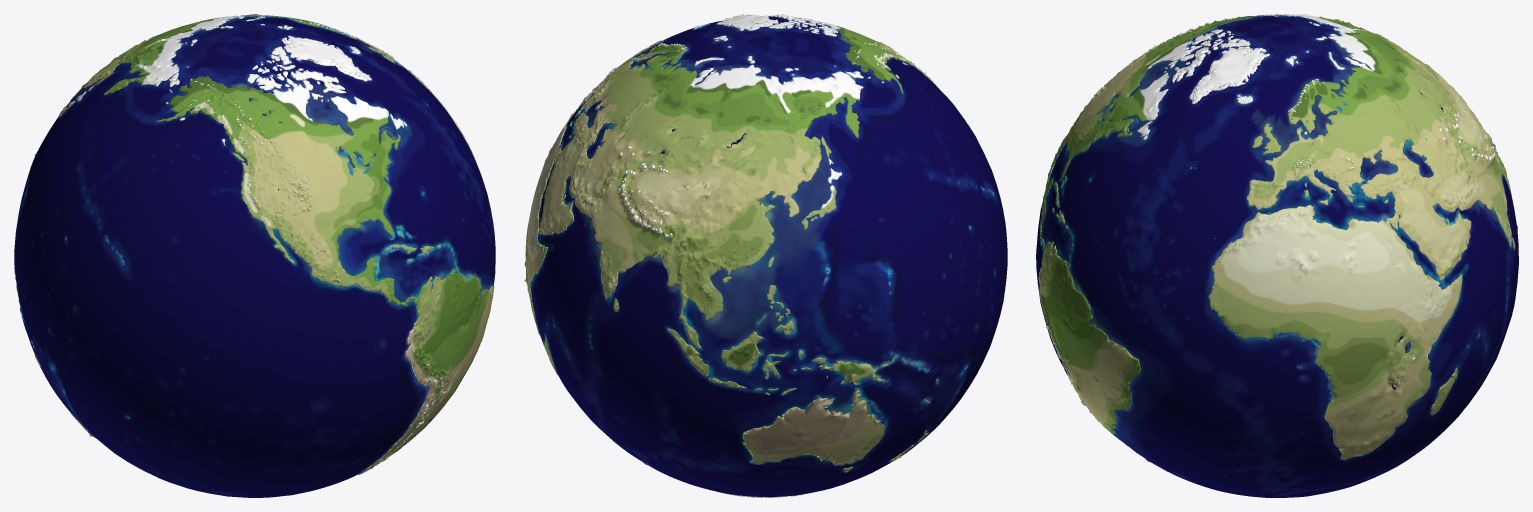
Rendered from globe1.glb.
3 views of the same model, side by side, from view 1: azimuth 30°, elevation 25°; view 2: azimuth 150°, elevation 25°; view 3: azimuth 270°, elevation 25° (orthographic).
Visible parts, largest first — view 1: ocean.001, Object002.009, Object002.010; view 2: ocean.001, Object002.009, Object002.010; view 3: ocean.001, Object002.009, Object002.010.
Part boxes in pixels (x1=…): ocean.001: x1=14, y1=16, x2=495, y2=497; Object002.009: x1=14, y1=14, x2=494, y2=474; Object002.010: x1=185, y1=19, x2=445, y2=470; ocean.001: x1=531, y1=16, x2=1007, y2=496; Object002.009: x1=524, y1=14, x2=994, y2=497; Object002.010: x1=524, y1=14, x2=931, y2=281; ocean.001: x1=1036, y1=15, x2=1518, y2=497; Object002.009: x1=1038, y1=14, x2=1517, y2=462; Object002.010: x1=1045, y1=15, x2=1495, y2=435.
Bounding box in the file's own units: 4.27 × 4.28 × 4.27.
Materials: 3 (2 with a texture image).
